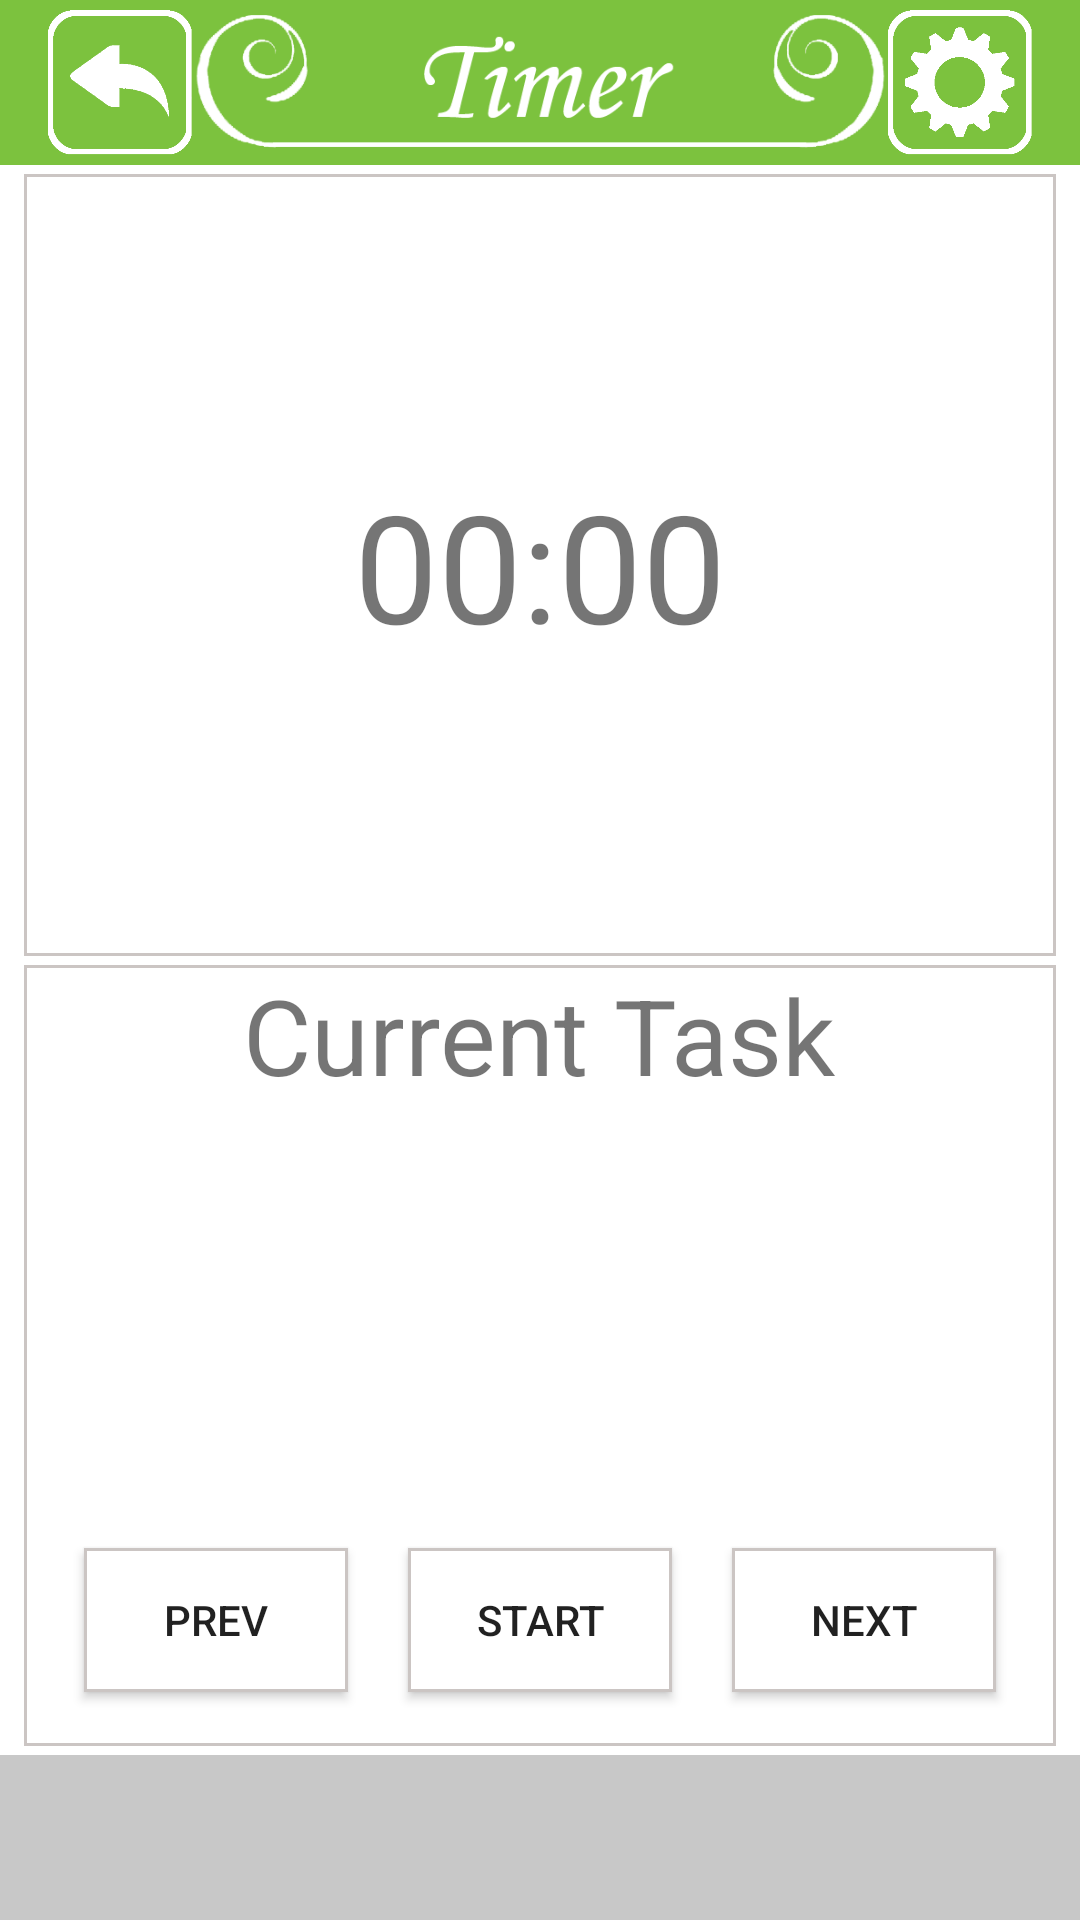

Named icons in this screenshot (1080px x 1920px) and their centers, [x,y]:
backbutton: [120,82]
settingsbutton: [960,82]
